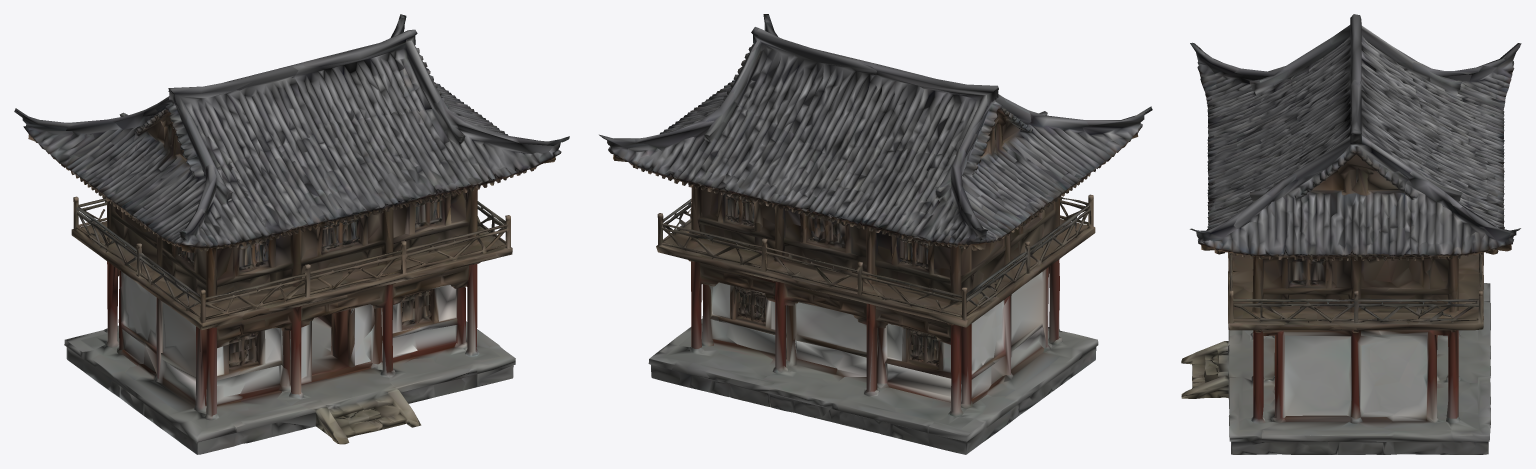
File: station_驿楼.glb
The picture shows the model from 3 angles, left to right: view 1: azimuth 30°, elevation 25°; view 2: azimuth 150°, elevation 25°; view 3: azimuth 270°, elevation 25°; orthographic projection.
Visible parts, largest first — view 1: tripo_node_c82d51c6-92b6-450d-8348-050ac5e80d0b; view 2: tripo_node_c82d51c6-92b6-450d-8348-050ac5e80d0b; view 3: tripo_node_c82d51c6-92b6-450d-8348-050ac5e80d0b.
Boxes of the visible parts, x1,y1,x2,y2 form: tripo_node_c82d51c6-92b6-450d-8348-050ac5e80d0b: [14, 14, 569, 454]; tripo_node_c82d51c6-92b6-450d-8348-050ac5e80d0b: [599, 14, 1152, 454]; tripo_node_c82d51c6-92b6-450d-8348-050ac5e80d0b: [1181, 14, 1521, 454].
Size of the model in its own units: 1.38 by 1.05 by 1.06.
